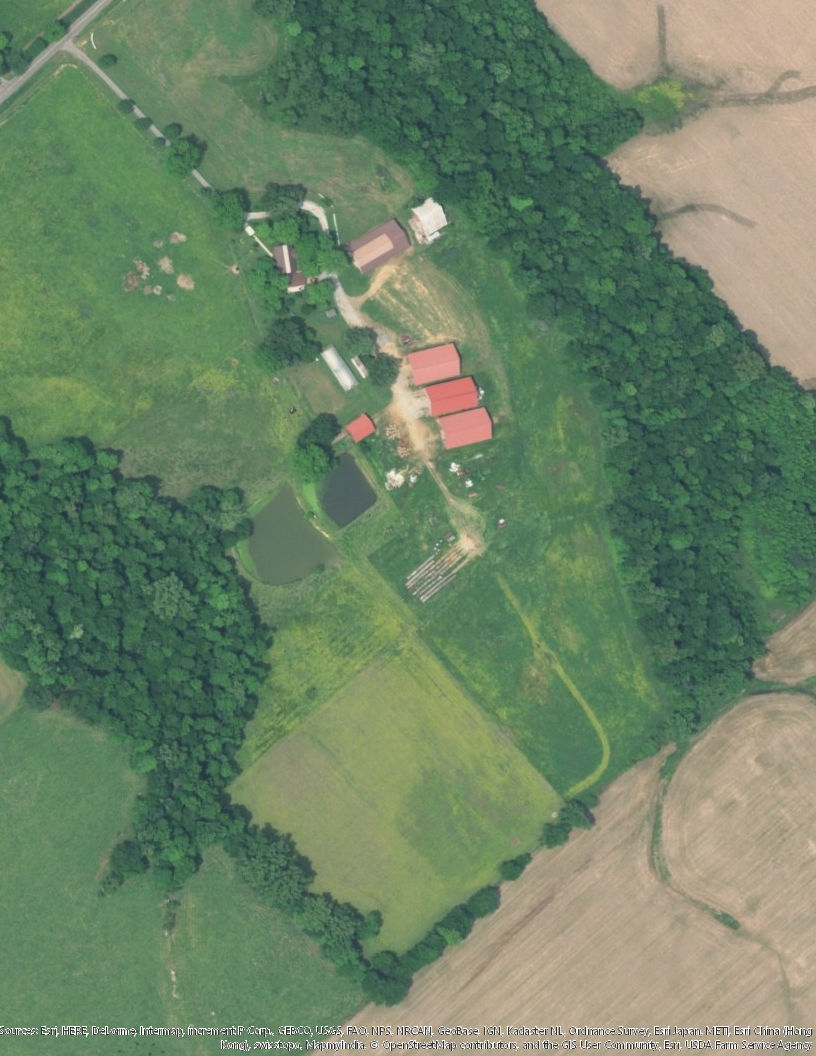cafo: (405, 339, 463, 384), (423, 372, 483, 414), (437, 406, 494, 450), (316, 343, 361, 395)
